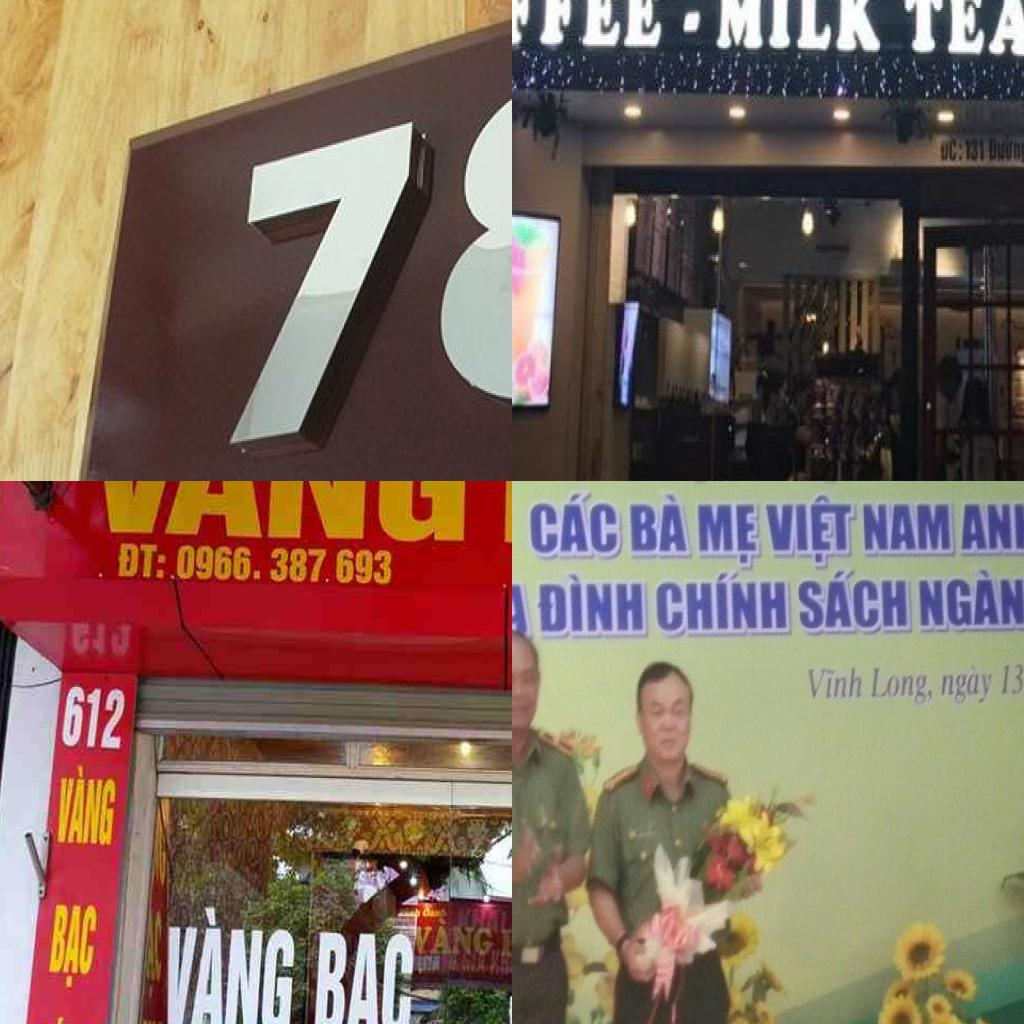text: (190, 89, 461, 468), (404, 41, 512, 427), (89, 481, 473, 550), (166, 904, 299, 1024), (310, 928, 419, 1024), (711, 0, 882, 60), (172, 543, 394, 589), (653, 568, 792, 641), (512, 0, 665, 58), (533, 571, 650, 642), (900, 0, 1024, 66), (796, 567, 914, 636), (762, 493, 858, 570), (918, 565, 1024, 634), (527, 490, 624, 560), (56, 765, 120, 849), (862, 502, 957, 558), (46, 902, 102, 990), (59, 684, 128, 754), (696, 501, 762, 571), (628, 491, 692, 560), (959, 501, 1024, 558), (868, 665, 937, 708), (416, 919, 495, 956), (939, 662, 997, 708), (807, 663, 866, 702), (115, 542, 169, 583), (145, 909, 166, 1000), (987, 130, 1024, 172), (512, 581, 535, 643), (999, 662, 1024, 697), (936, 138, 964, 164), (966, 138, 988, 168)
